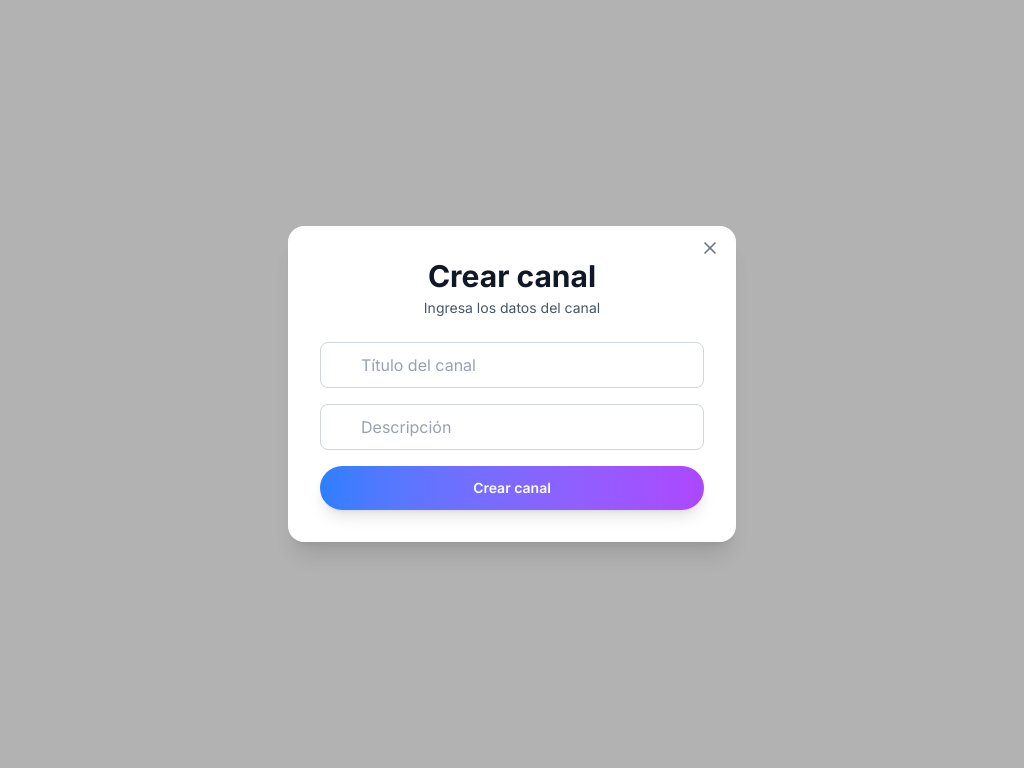
Test: ChannelFormModal › muestra error si los campos están vacíos
Click the button "Crear canal".
click(512, 488)  # box [320, 466, 704, 510]
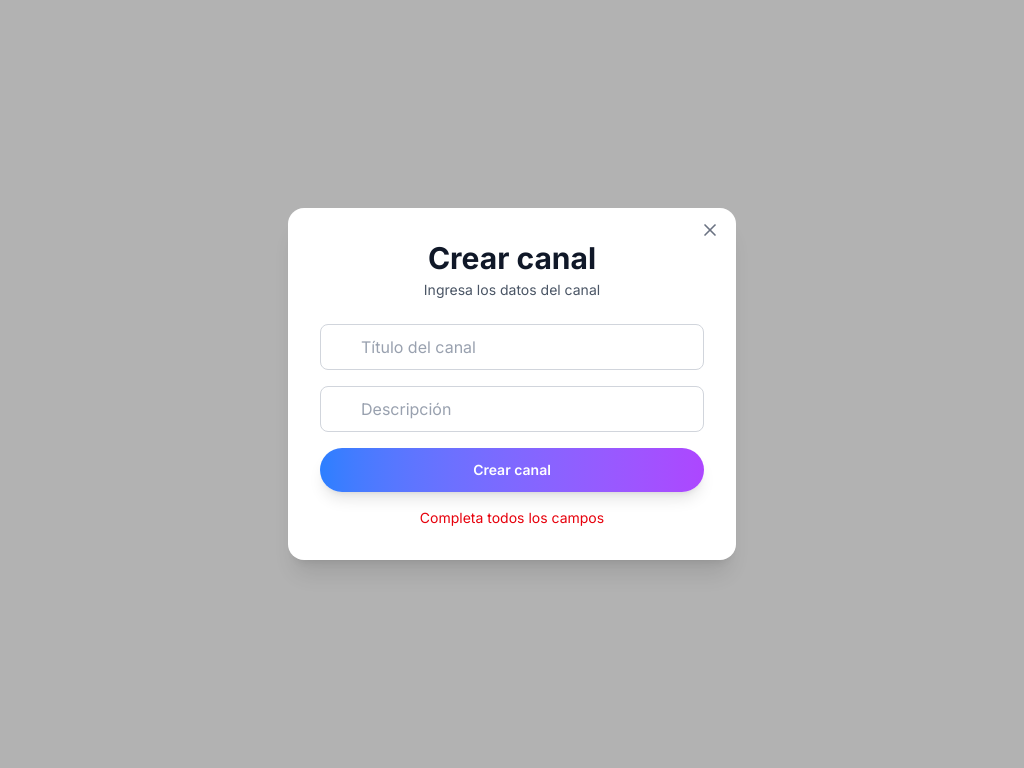
Expected: the text "Completa todos los campos" is shown, [420, 509, 604, 526]
